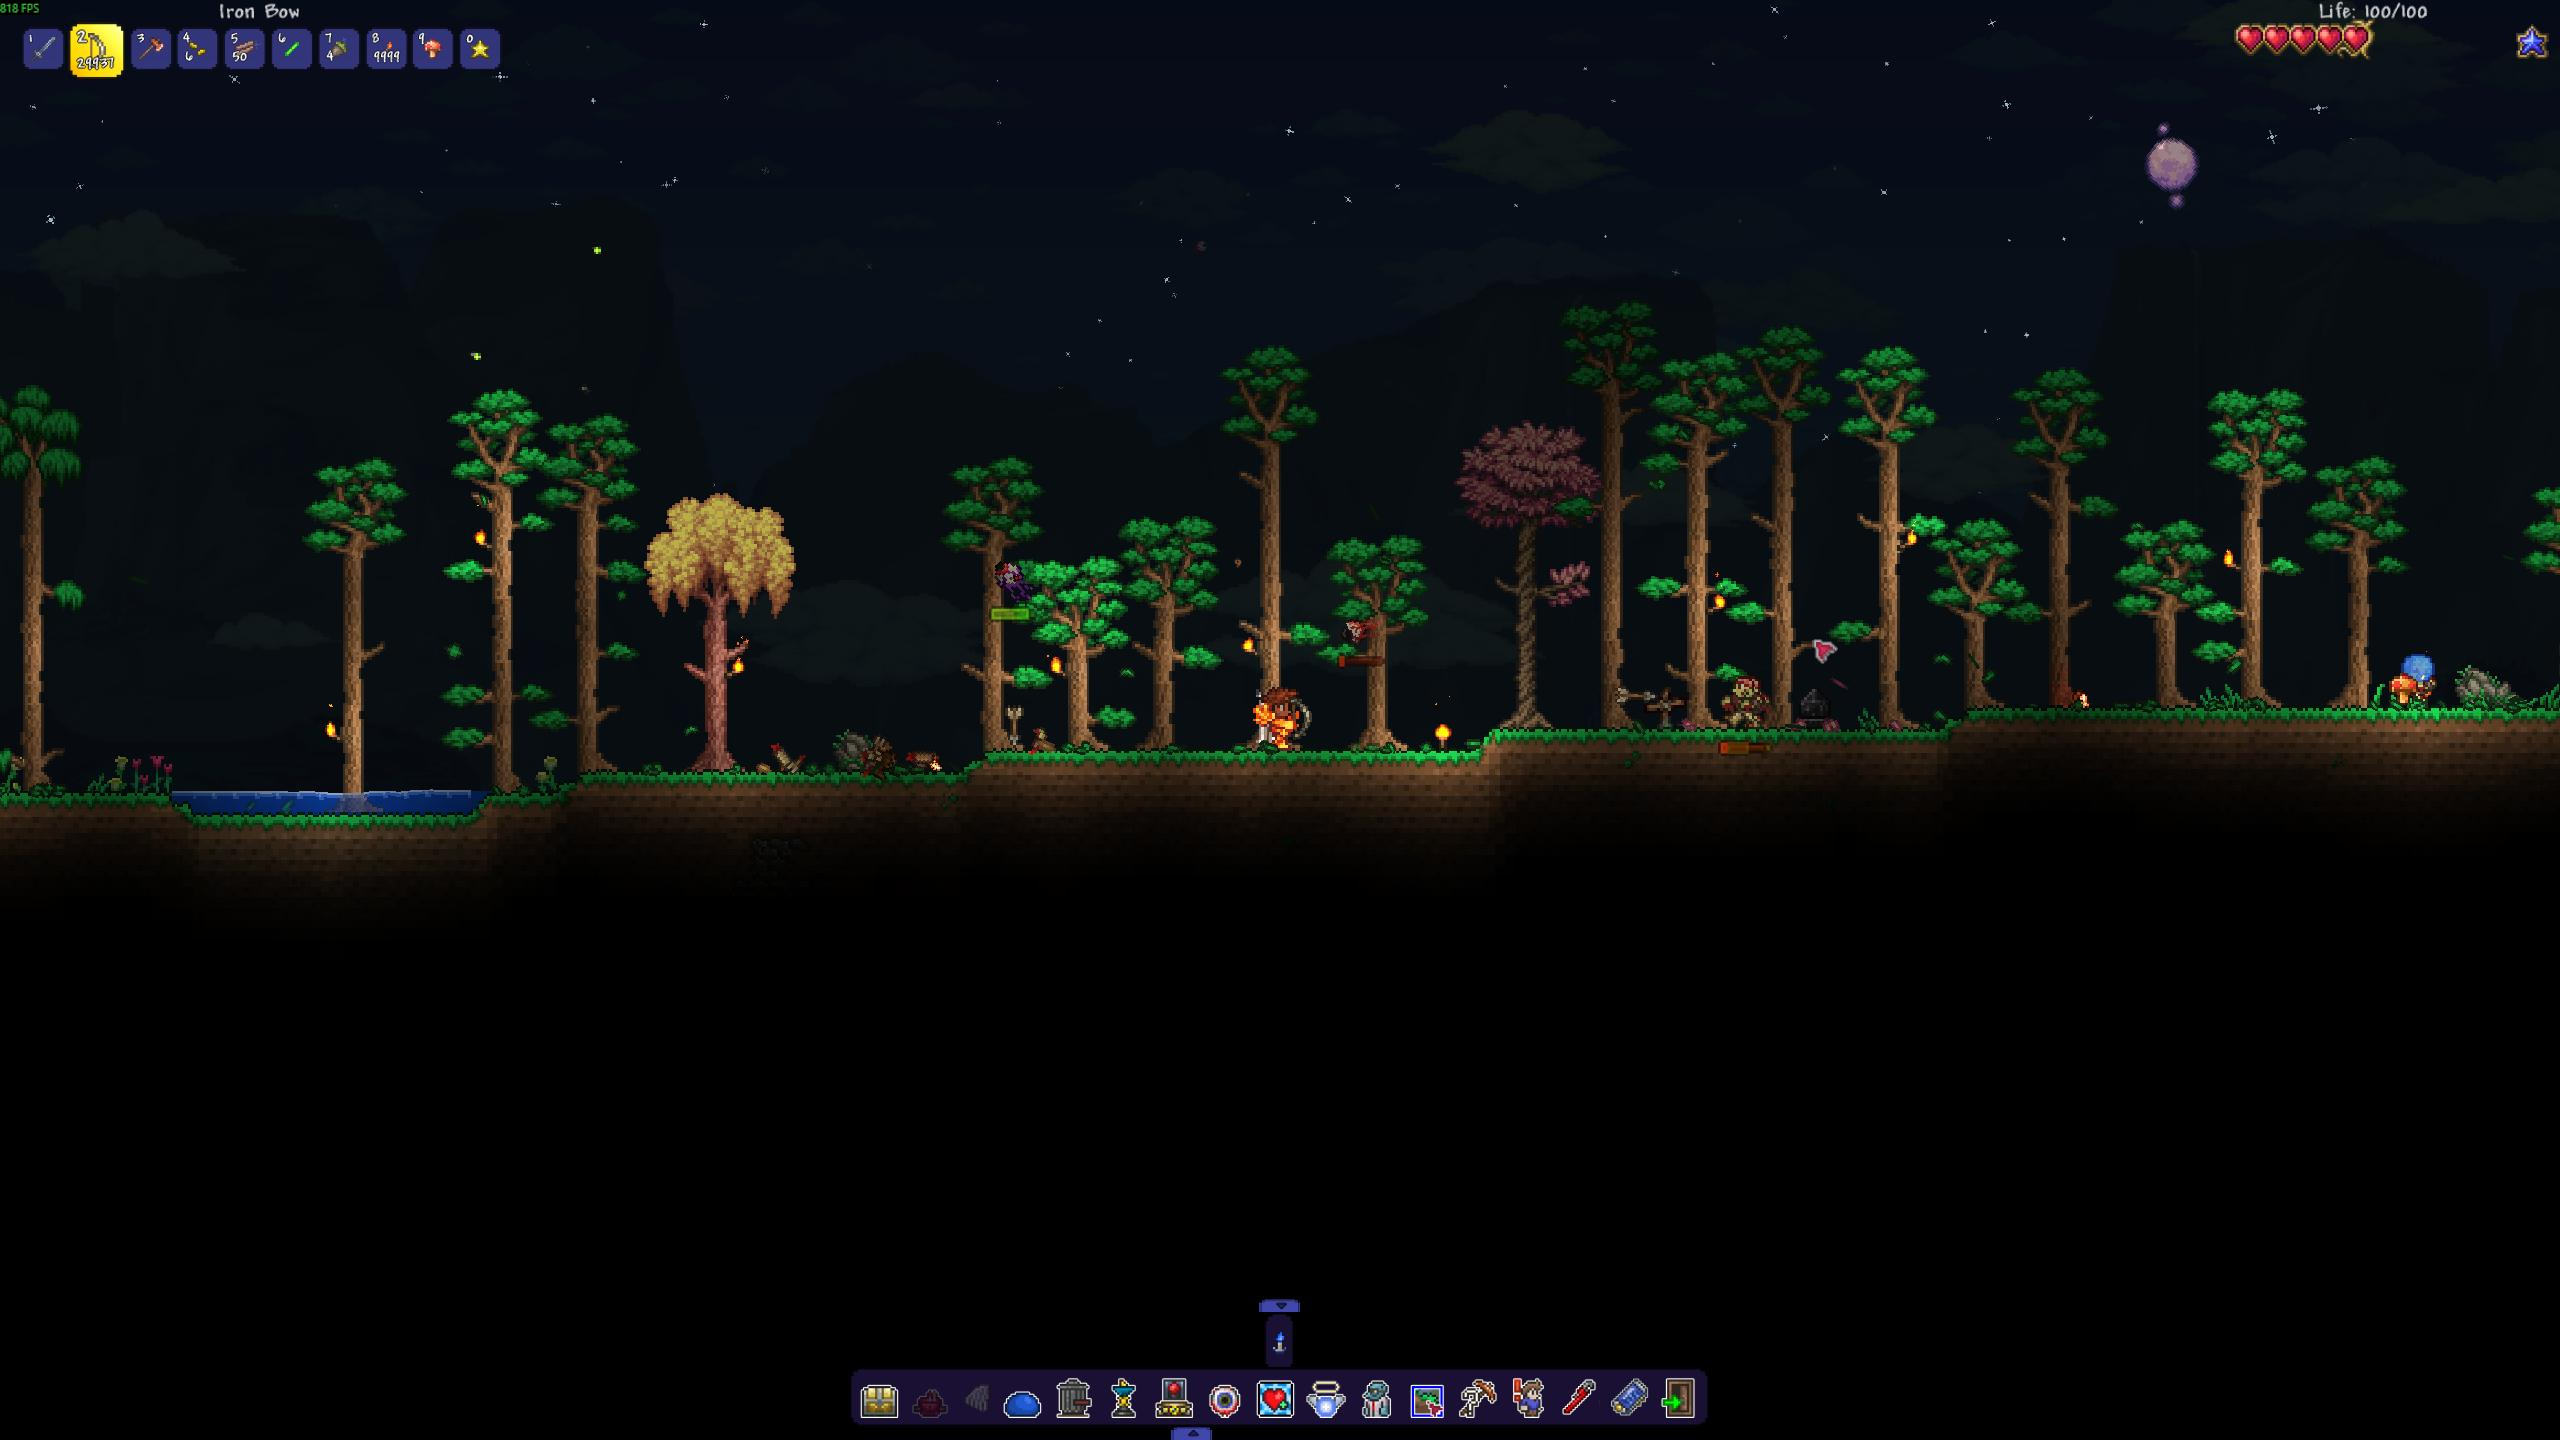Demon Eye: (988, 556, 1037, 605), (1336, 615, 1384, 652)
Zombie: (1709, 663, 1765, 728), (2395, 649, 2439, 707)
